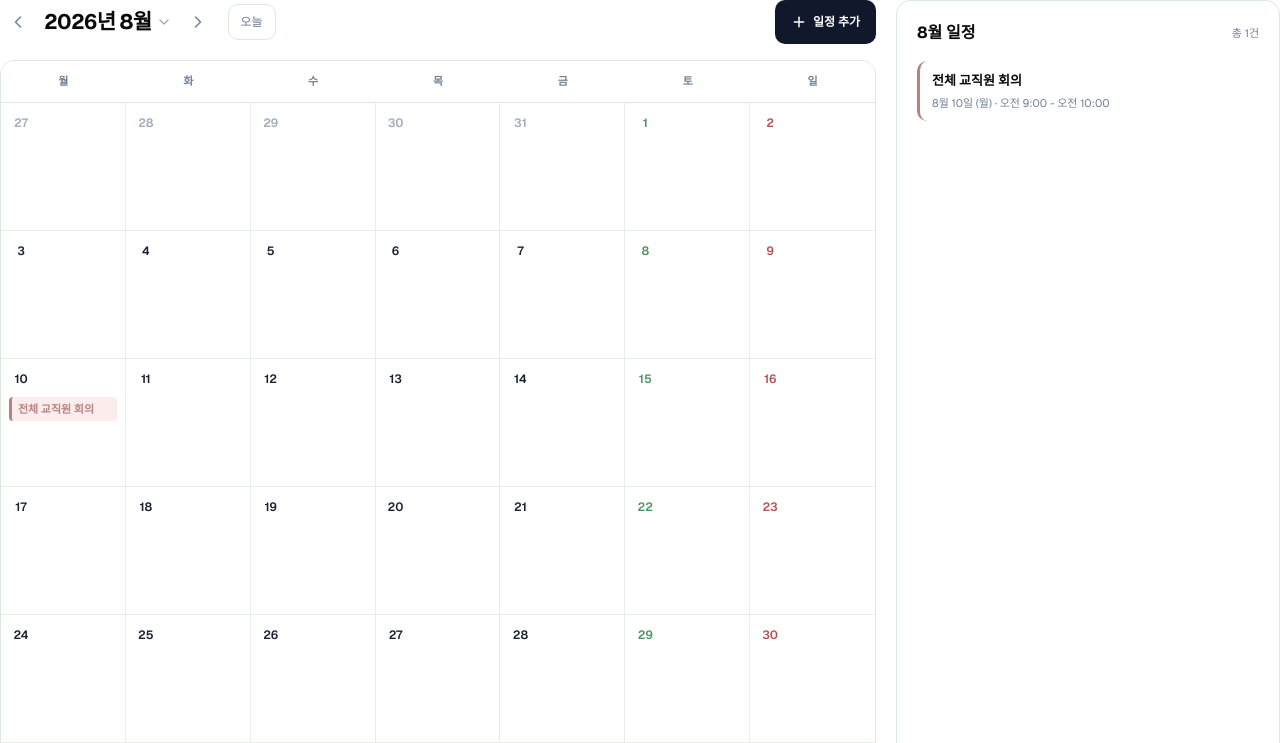
Scenario: ScheduleBoard › 일정 목록을 조회해 우측 목록에 표시하고 클릭하면 상세 모달이 열린다
The width and height of the screenshot is (1280, 743).
Click the text "전체 교직원 회의" below "8월 일정".
click(977, 80)  # box x1=932 y1=72 x2=1022 y2=89
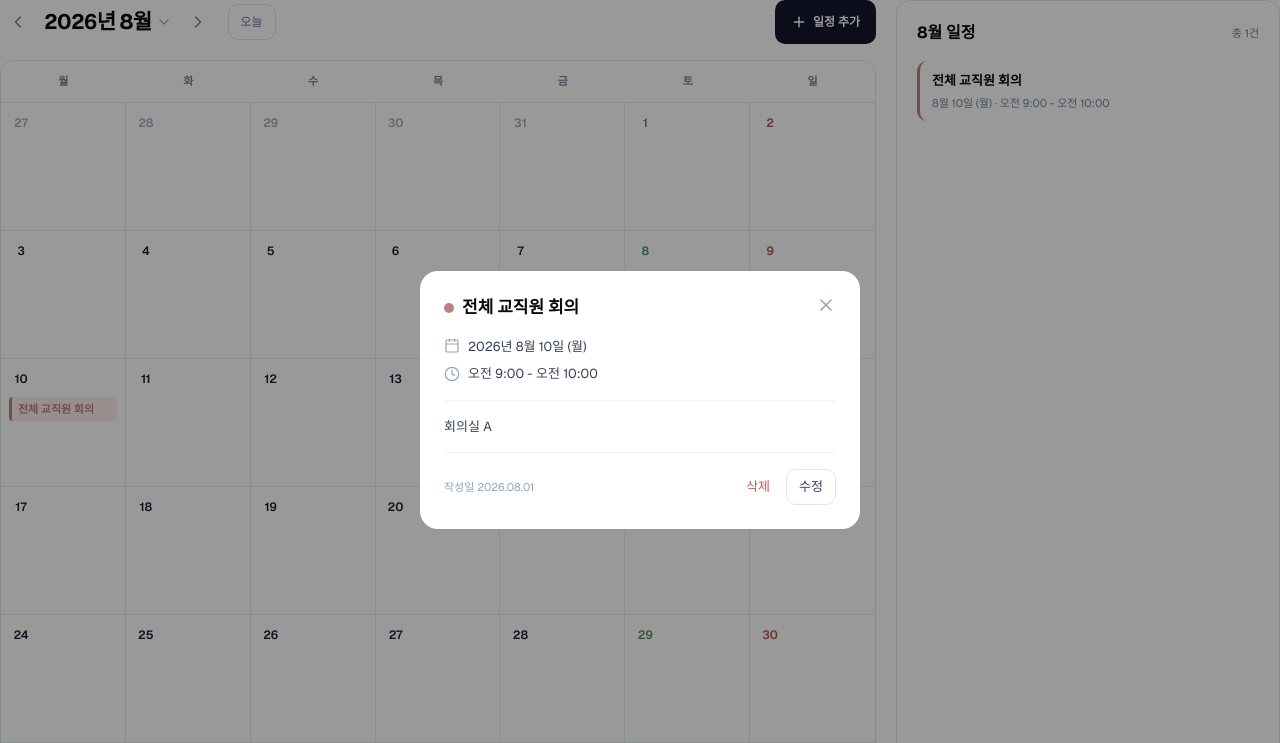
Check: the heading "전체 교직원 회의" is shown, box x1=444 y1=295 x2=579 y2=320
